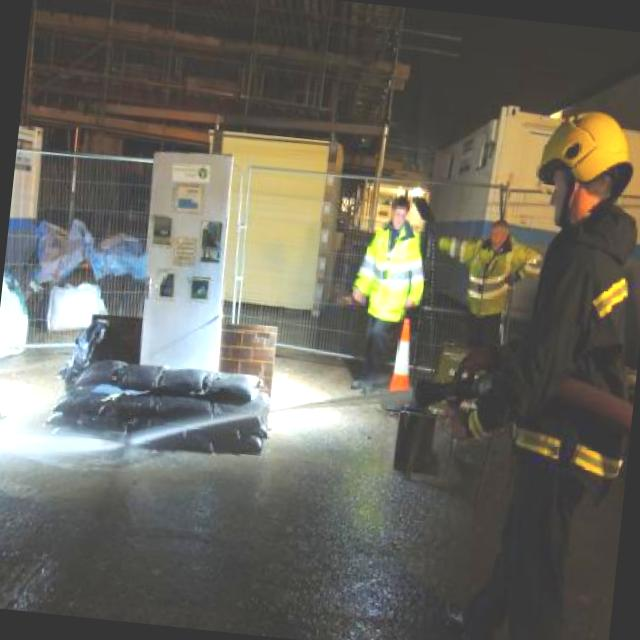Person: (414, 95, 640, 640), (422, 213, 552, 396), (344, 182, 430, 404)
